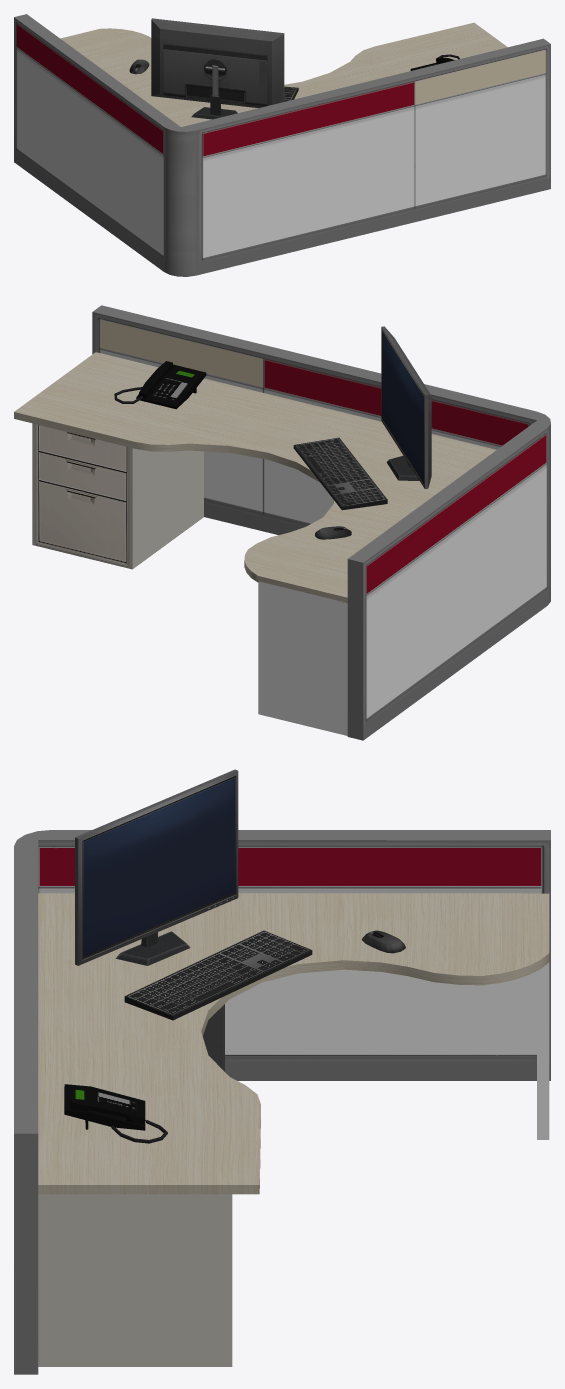
File: Office_Cube_03.fbx
The picture shows the model from 3 angles, top to bottom: view 1: azimuth 30°, elevation 25°; view 2: azimuth 150°, elevation 25°; view 3: azimuth 270°, elevation 25°; orthographic projection. The views are drawn at different scales.
Parts seen in each view (by area): view 1: Office_Cube_3; view 2: Office_Cube_3; view 3: Office_Cube_3.
Part boxes in pixels (left/top/right/bottom): Office_Cube_3: left=14, top=14, right=550, bottom=276; Office_Cube_3: left=14, top=305, right=550, bottom=740; Office_Cube_3: left=14, top=769, right=550, bottom=1374.
Bounding box in the file's own units: 200 × 103 × 149.
